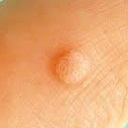Wart: (54, 45, 90, 83)
